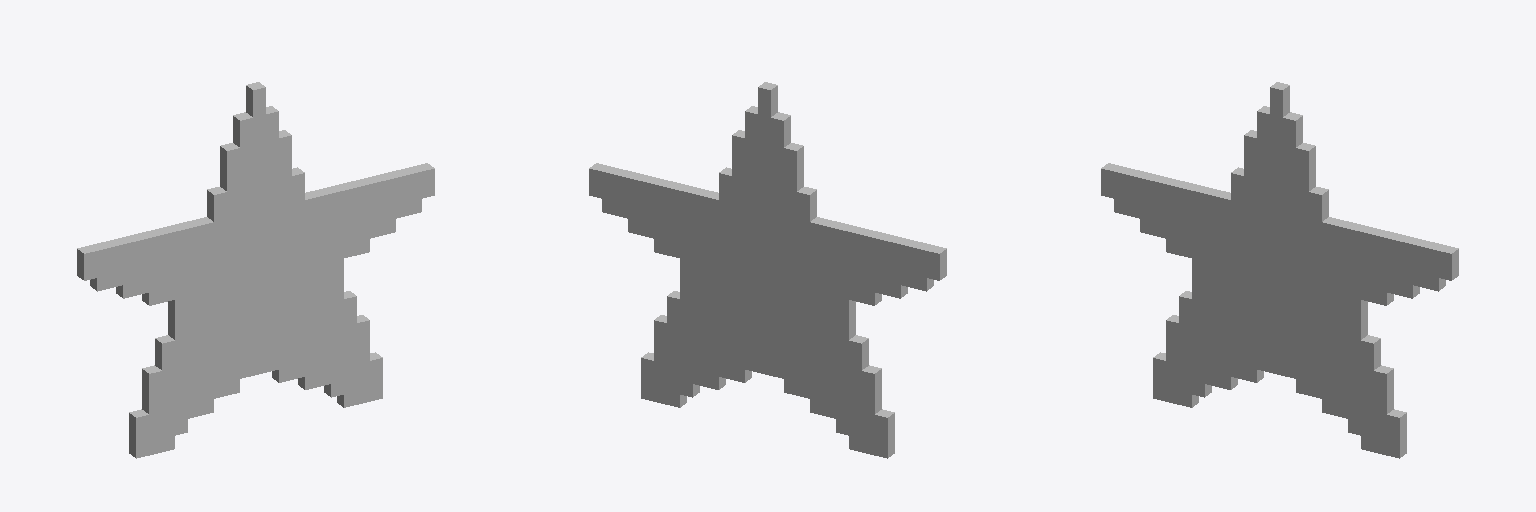
File: Star.obj
3 views of the same model, side by side, from view 1: azimuth 30°, elevation 25°; view 2: azimuth 150°, elevation 25°; view 3: azimuth 330°, elevation 25° (orthographic).
Visible parts, largest first — view 1: object 1; view 2: object 1; view 3: object 1.
Boxes of the visible parts, x1=… form: object 1: x1=77, y1=82, x2=434, y2=458; object 1: x1=589, y1=82, x2=946, y2=458; object 1: x1=1101, y1=82, x2=1458, y2=458.
Bounding box in the file's own units: 2.7 × 2.5 × 0.1.